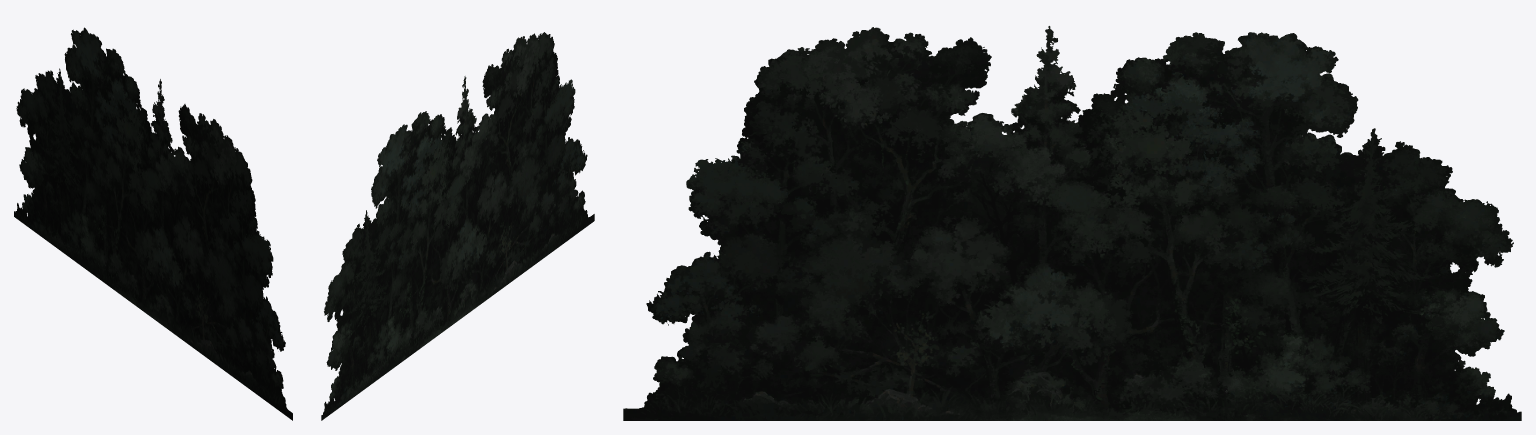
File: Middle.fbx
3 views of the same model, side by side, from view 1: azimuth 30°, elevation 25°; view 2: azimuth 150°, elevation 25°; view 3: azimuth 270°, elevation 25° (orthographic). The views are drawn at different scales.
Parts seen in each view (by area): view 1: SM_d_114_Middle_02b.001; view 2: SM_d_114_Middle_02b.001; view 3: SM_d_114_Middle_02b.001.
Boxes of the visible parts, x1,y1,x2,y2 form: SM_d_114_Middle_02b.001: (14,27,292,420); SM_d_114_Middle_02b.001: (321,32,594,420); SM_d_114_Middle_02b.001: (623,26,1521,420).
Bounding box in the file's own units: 2.42e-15 × 6 × 12.
